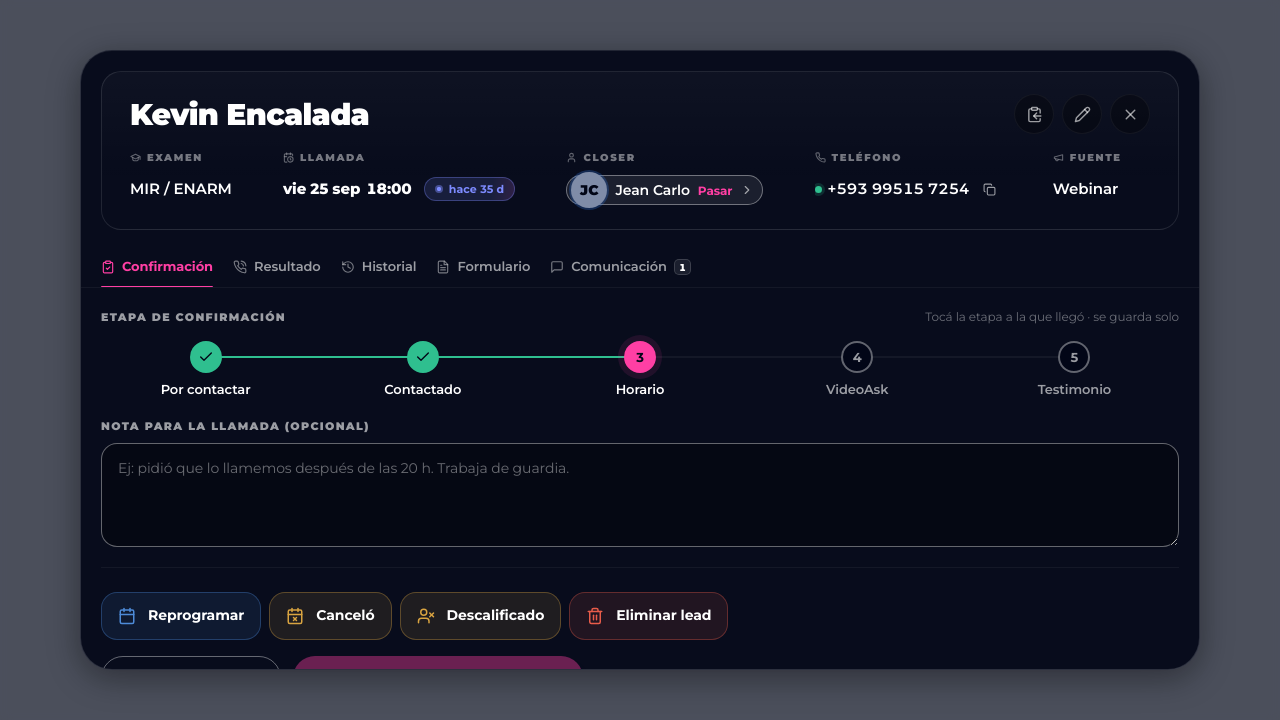
Test case: la franja en modo edición › Enter guarda solo lo que cambió, recarga la ficha y deja el aviso
Expected: the tab "Confirmación" is shown, [101,246,213,287]
Step 1. Click the button named "Editar los datos del lead" → [1082, 114], box [1062,94,1102,134]
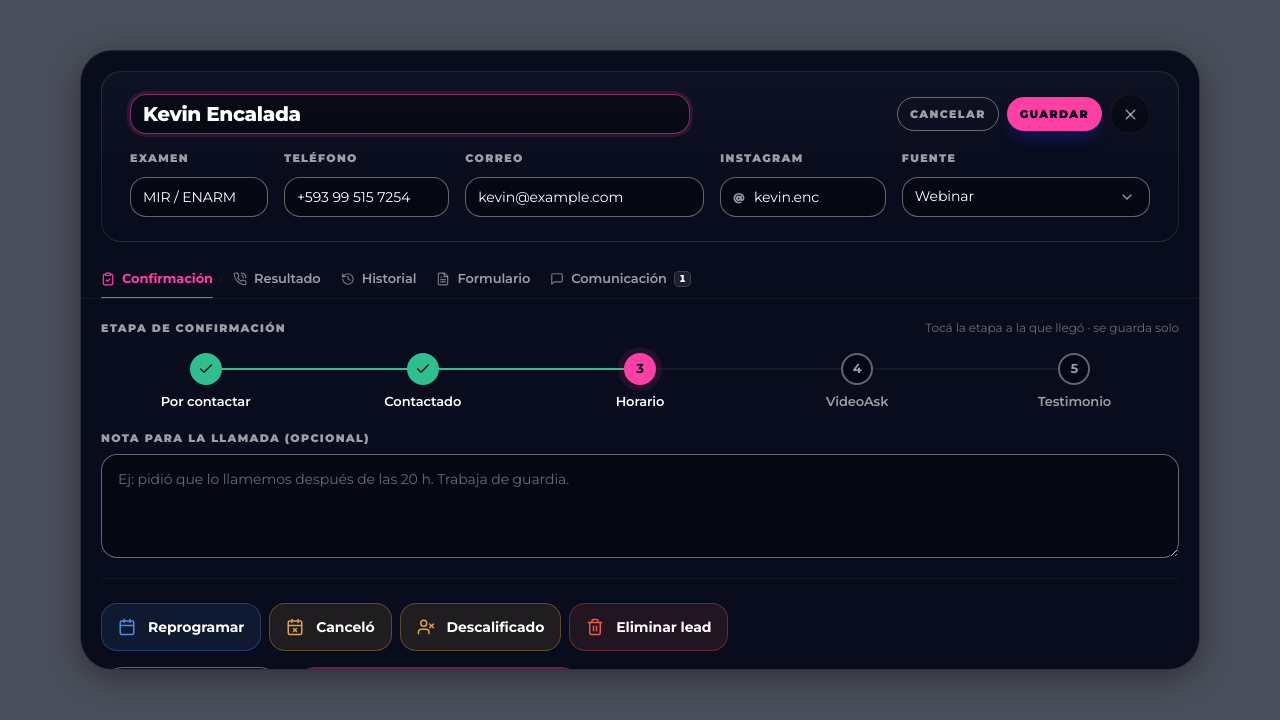
Step 2. Replace the text in the field labelled "Teléfono" with "+593 99 000 1111" → [367, 197], box [297,178,436,216]
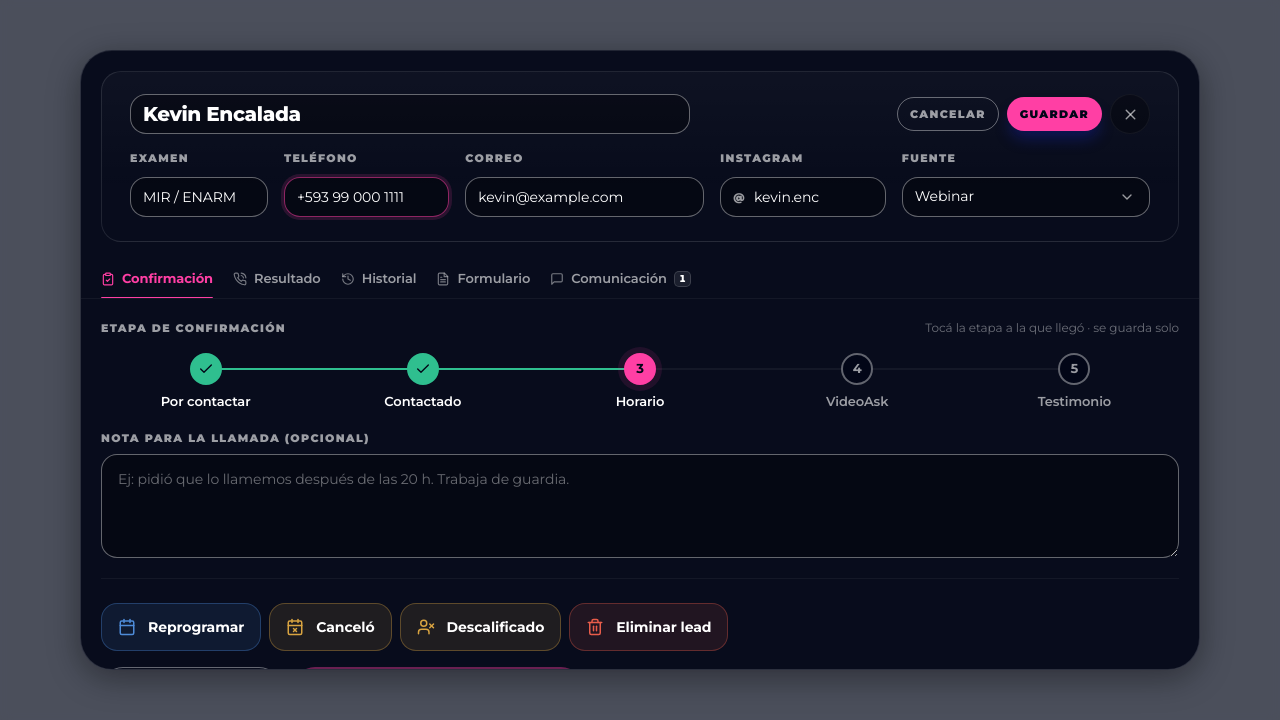
Step 3. Replace the text in the field labelled "Instagram" with "kevin.nuevo" → [813, 197], box [754,178,873,216]
Then press Enter
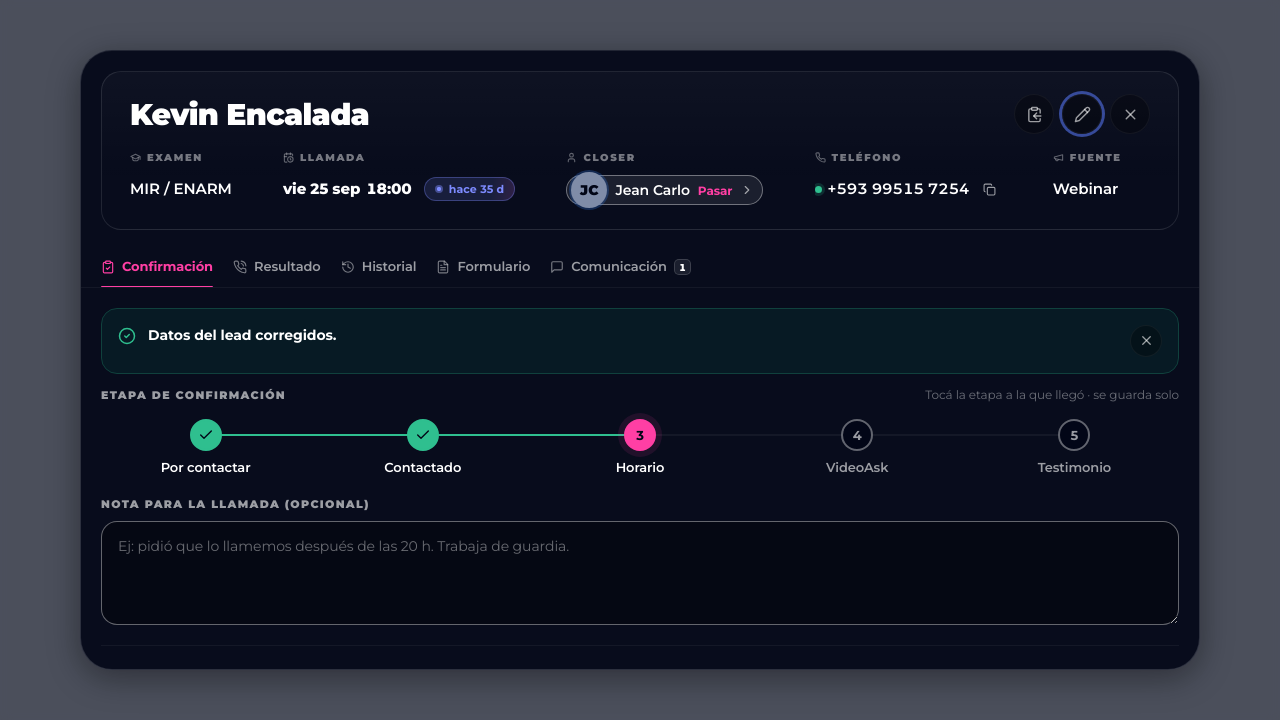
Now the text "Datos del lead corregidos." is shown, box [148,326,336,344]
Now the heading reads "Kevin Encalada", box [130,96,369,133]
